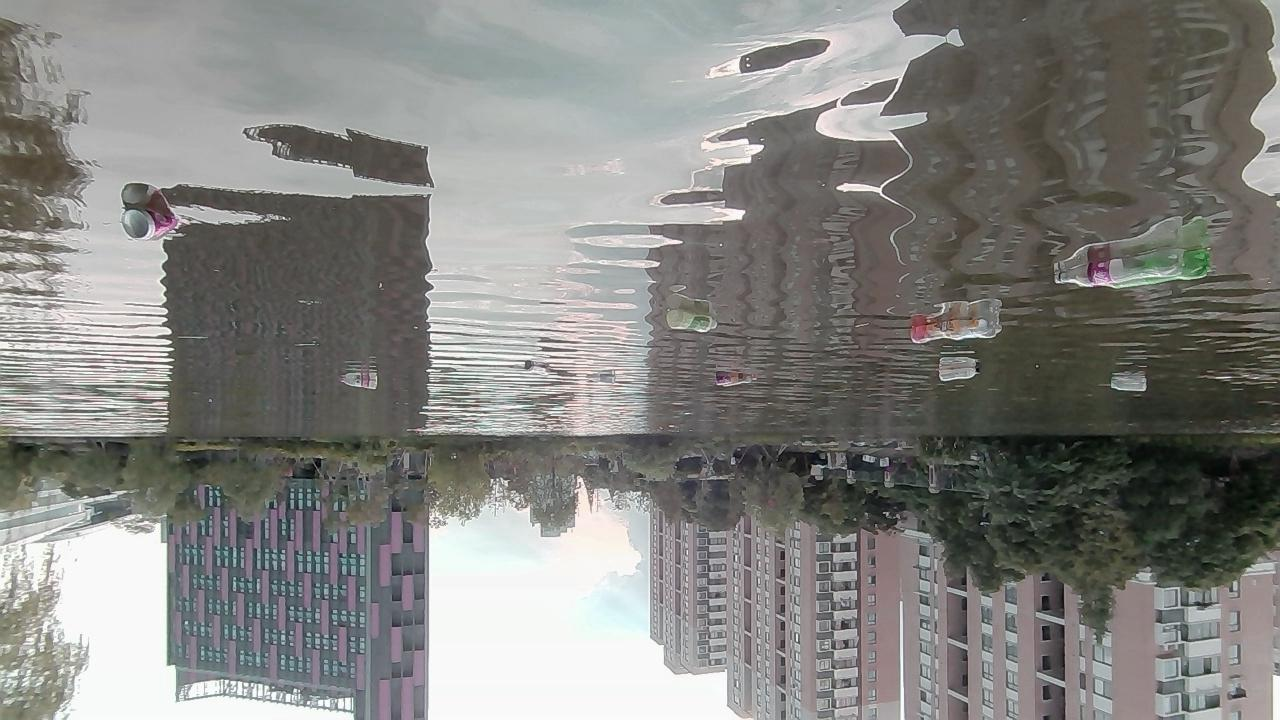Metal: (119, 206, 179, 244)
Plastic: (1053, 250, 1185, 288), (1101, 247, 1211, 290), (910, 318, 979, 344), (665, 308, 719, 333), (947, 317, 1003, 341), (1105, 377, 1150, 396), (714, 372, 759, 388), (938, 367, 981, 383), (338, 376, 379, 391)
